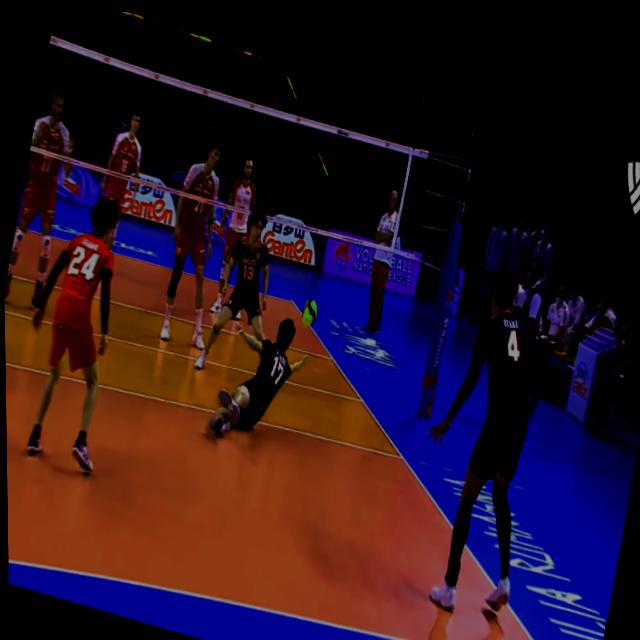player: (398, 246, 572, 619), (4, 177, 149, 477), (1, 70, 91, 333), (147, 119, 244, 356), (189, 190, 293, 386), (209, 292, 316, 460), (205, 136, 271, 321), (86, 101, 152, 256)
